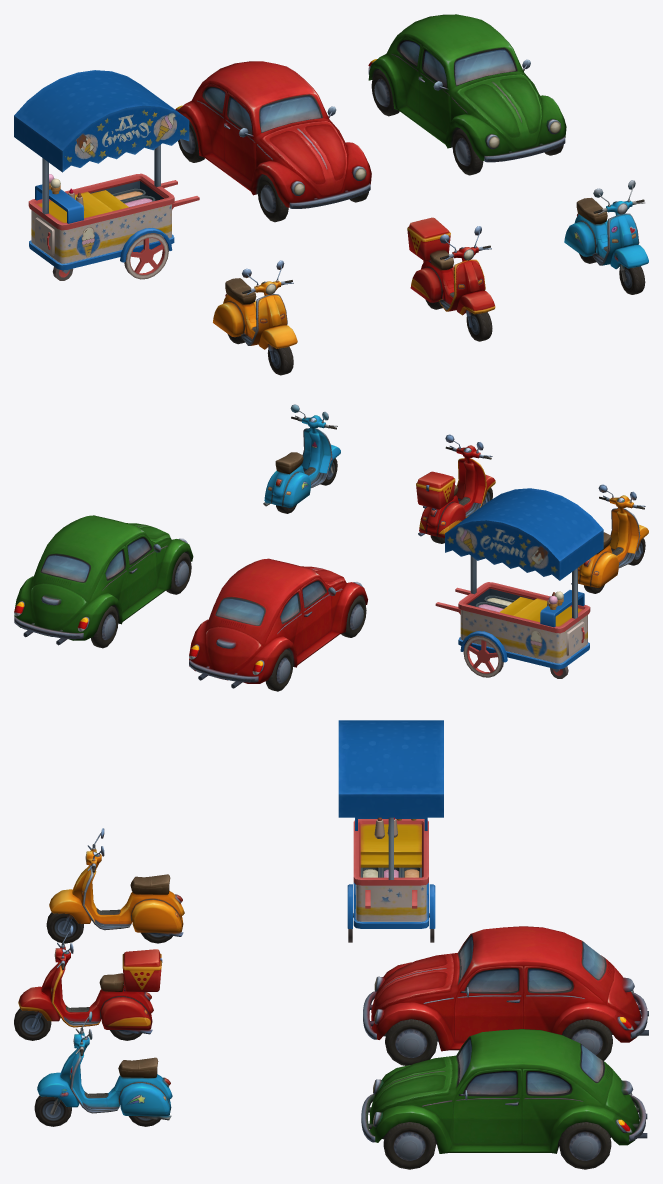
Rendered from Vehicles.glb.
The picture shows the model from 3 angles, top to bottom: view 1: azimuth 30°, elevation 25°; view 2: azimuth 150°, elevation 25°; view 3: azimuth 270°, elevation 25°; orthographic projection. The views are drawn at different scales.
Parts seen in each view (by area): view 1: Box, Car_1, Car, Motorbike_2, Motorbike_1_1, Motorbike_1, Wheels, Car_wheel_fr_1, Car_wheel_fr, Motorbike_wing, Motorbike_wing_2, Motorbike_wing_1 (+5 smaller); view 2: Box, Car_1, Car, Motorbike_2, Motorbike_1_1, Motorbike_1, Wheels, Car_wheel_rr_1, Car_wheel_rr, Car_wheel_fr_1, Car_wheel_fr; view 3: Car_1, Car, Box, Motorbike_2, Motorbike_1_1, Motorbike_1, Car_wheel_fl_1, Car_wheel_rl_1, Car_wheel_fl, Car_wheel_rl, Motorbike_wing, Motorbike_wing_2 (+4 smaller).
Part boxes in pixels (<box>): Box: <box>14,70,199,273</box>; Car_1: <box>368,14,566,162</box>; Car: <box>175,61,371,208</box>; Motorbike_2: <box>407,217,491,311</box>; Motorbike_1_1: <box>564,180,645,265</box>; Motorbike_1: <box>213,260,293,345</box>; Wheels: <box>124,233,168,279</box>; Car_wheel_fr_1: <box>452,128,483,175</box>; Car_wheel_fr: <box>257,175,288,222</box>; Motorbike_wing: <box>259,325,297,361</box>; Motorbike_wing_2: <box>610,245,648,281</box>; Motorbike_wing_1: <box>457,290,495,327</box>; Box: <box>435,488,603,672</box>; Car_1: <box>14,515,193,645</box>; Car: <box>189,558,367,688</box>; Motorbike_2: <box>416,434,492,537</box>; Motorbike_1_1: <box>263,404,337,507</box>; Motorbike_1: <box>571,484,645,587</box>; Wheels: <box>463,635,503,677</box>; Car_wheel_rr_1: <box>91,606,118,648</box>; Car_wheel_rr: <box>265,649,293,691</box>; Car_wheel_fr_1: <box>166,552,191,594</box>; Car_wheel_fr: <box>341,595,366,637</box>; Car_1: <box>361,1029,647,1153</box>; Car: <box>363,926,648,1051</box>; Box: <box>338,720,443,928</box>; Motorbike_2: <box>41,925,162,1034</box>; Motorbike_1_1: <box>60,1011,172,1120</box>; Motorbike_1: <box>72,828,184,936</box>; Car_wheel_fl_1: <box>383,1122,435,1169</box>; Car_wheel_rl_1: <box>559,1122,611,1169</box>; Car_wheel_fl: <box>385,1019,437,1065</box>; Car_wheel_rl: <box>562,1019,612,1060</box>; Motorbike_wing: <box>49,889,91,931</box>; Motorbike_wing_2: <box>37,1072,79,1114</box>.
Bounding box in the file's own units: 8.48 × 2.77 × 8.15.
6 materials, 6 textured.
